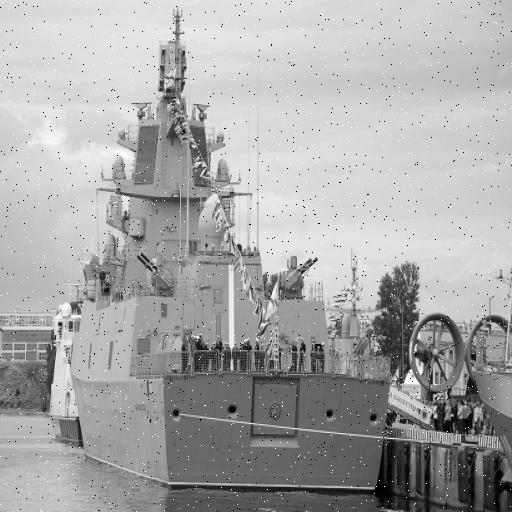Fragata: (64, 1, 392, 500)
